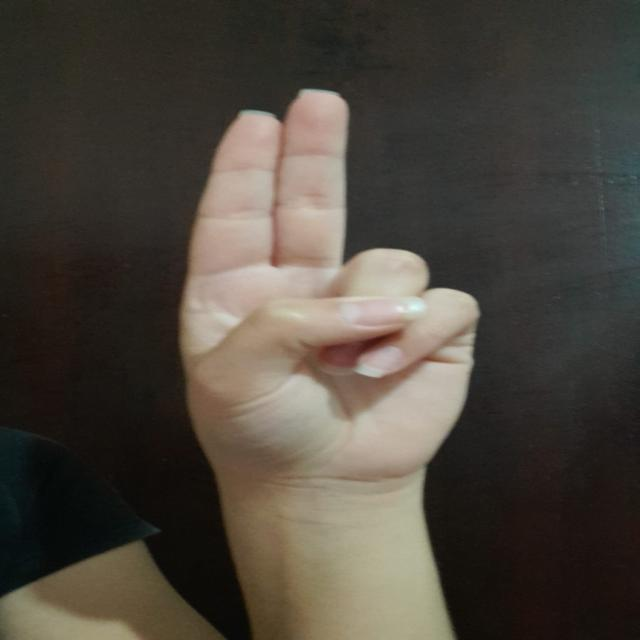U: (178, 78, 491, 488)
